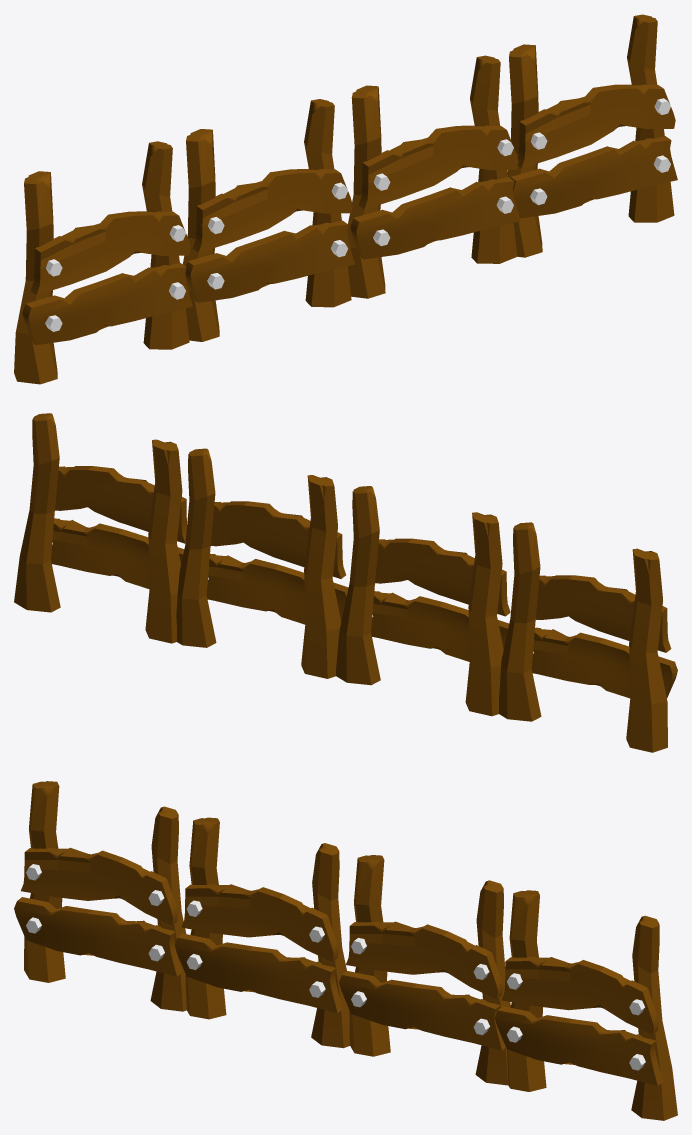
Rendered from WoodenFence.fbx.
The picture shows the model from 3 angles, top to bottom: view 1: azimuth 30°, elevation 25°; view 2: azimuth 150°, elevation 25°; view 3: azimuth 330°, elevation 25°; orthographic projection. The views are drawn at different scales.
Visible parts, largest first — view 1: FENCES:pCylinder21; view 2: FENCES:pCylinder21; view 3: FENCES:pCylinder21.
Boxes of the visible parts, x1,y1,x2,y2 form: FENCES:pCylinder21: (14, 14, 677, 384); FENCES:pCylinder21: (14, 413, 677, 752); FENCES:pCylinder21: (14, 781, 677, 1120).
Size of the model in its own units: 1080 by 309 by 101.
